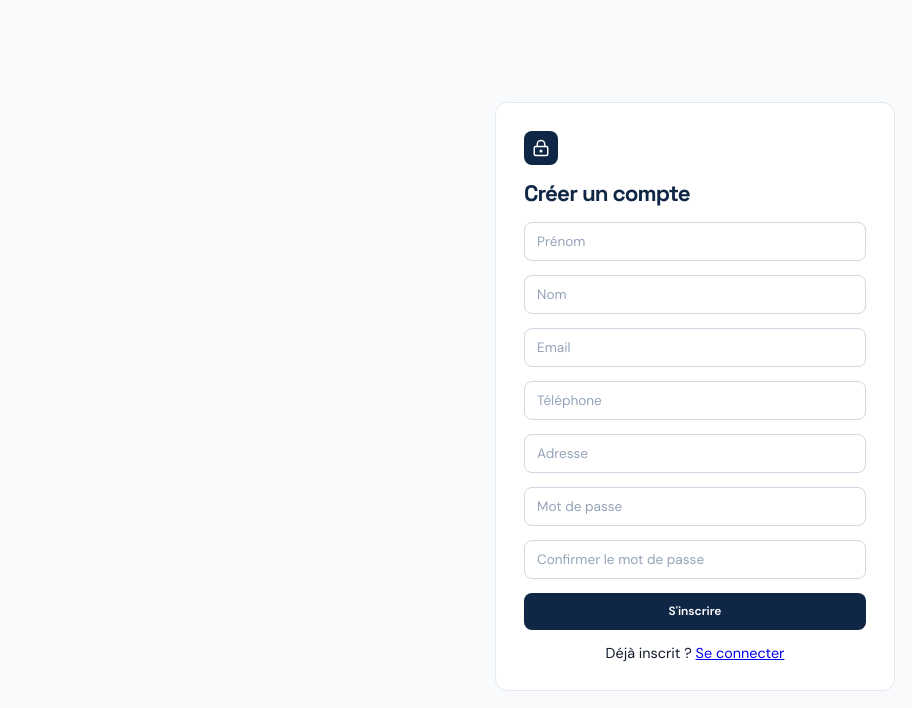
Test: calls register with form data, notifies and goes to /login
Type "Ali" into the field labelled "Prénom" at (695, 241), box x1=524 y1=222 x2=866 y2=260
Type "Ben" into the field labelled "Nom" at (695, 294), box x1=524 y1=274 x2=866 y2=314
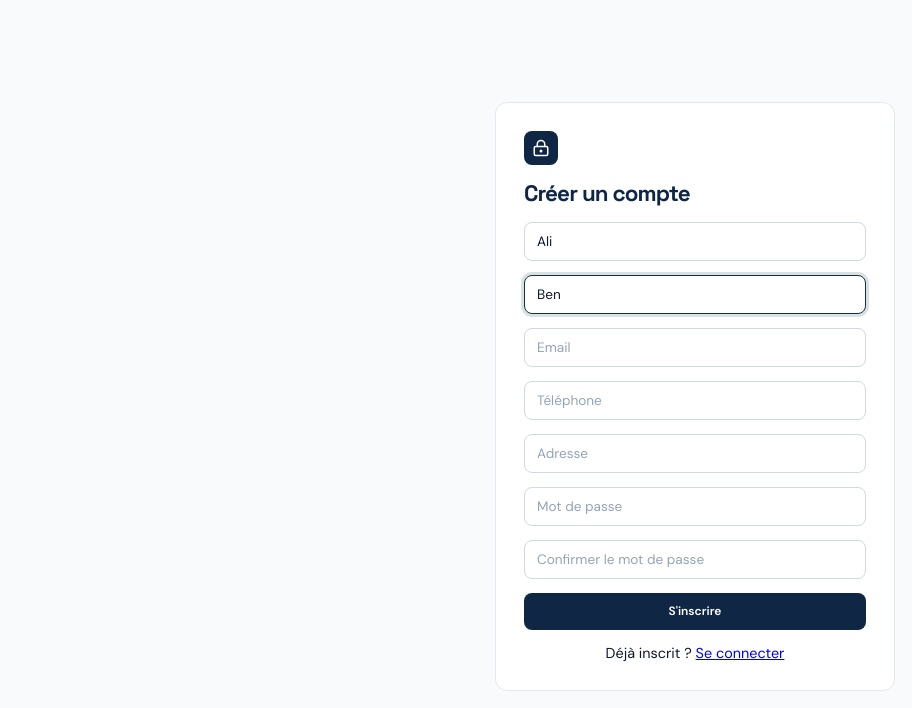
Type "ali@test.com" into the field labelled "Email" at (695, 347), box x1=524 y1=328 x2=866 y2=366
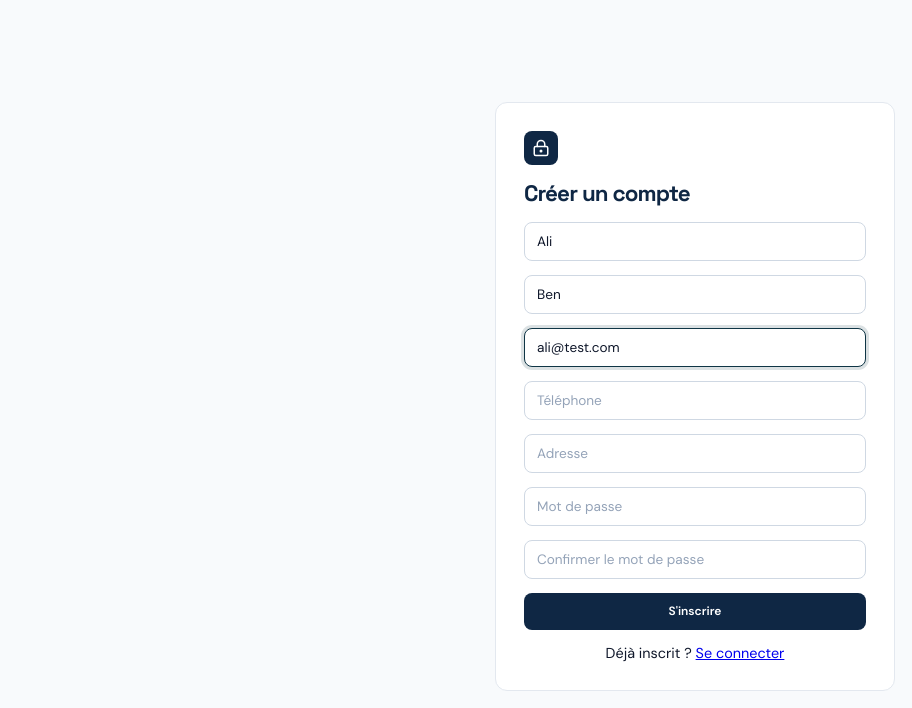
Type "Tunis" into the field labelled "Adresse" at (695, 453), box x1=524 y1=434 x2=866 y2=472
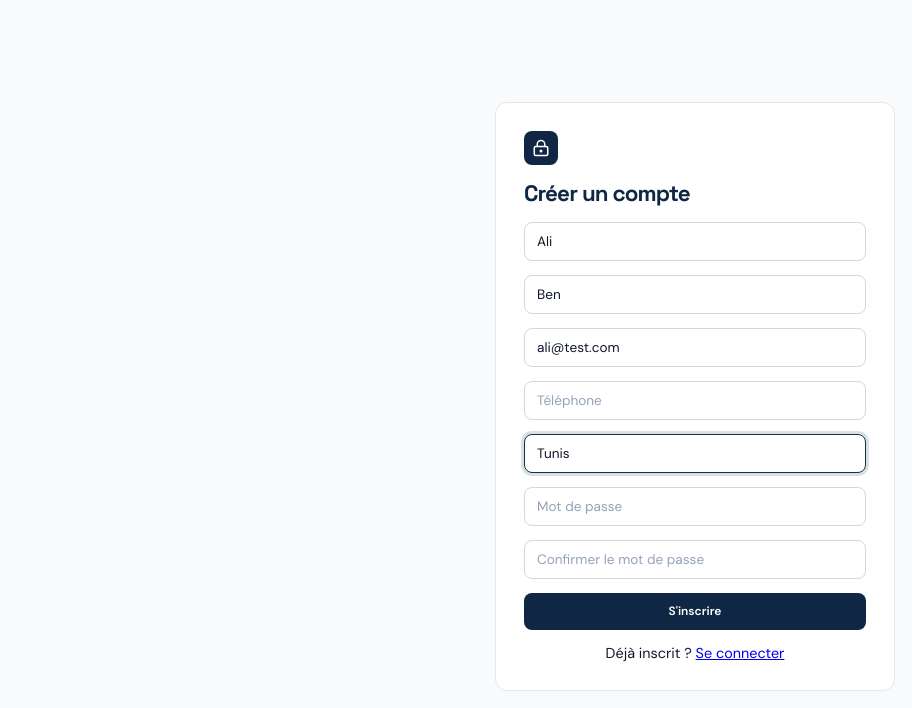
Type "Secret123!" into the password field labelled "Mot de passe" at (695, 506), box x1=524 y1=486 x2=866 y2=526
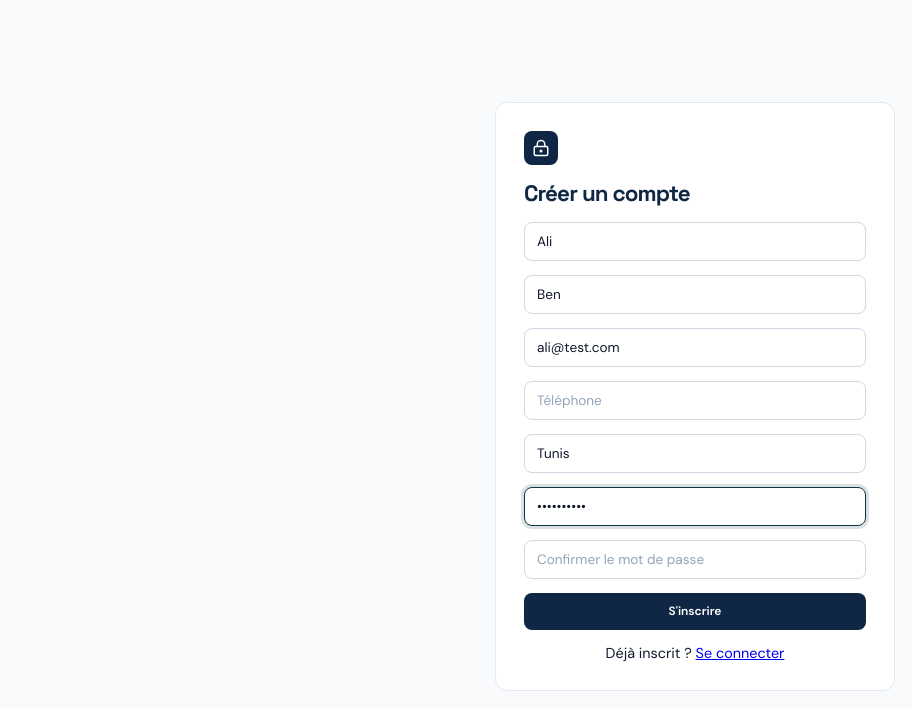
Type "Secret123!" into the password field labelled "Confirmer le mot de passe" at (695, 559), box x1=524 y1=540 x2=866 y2=578
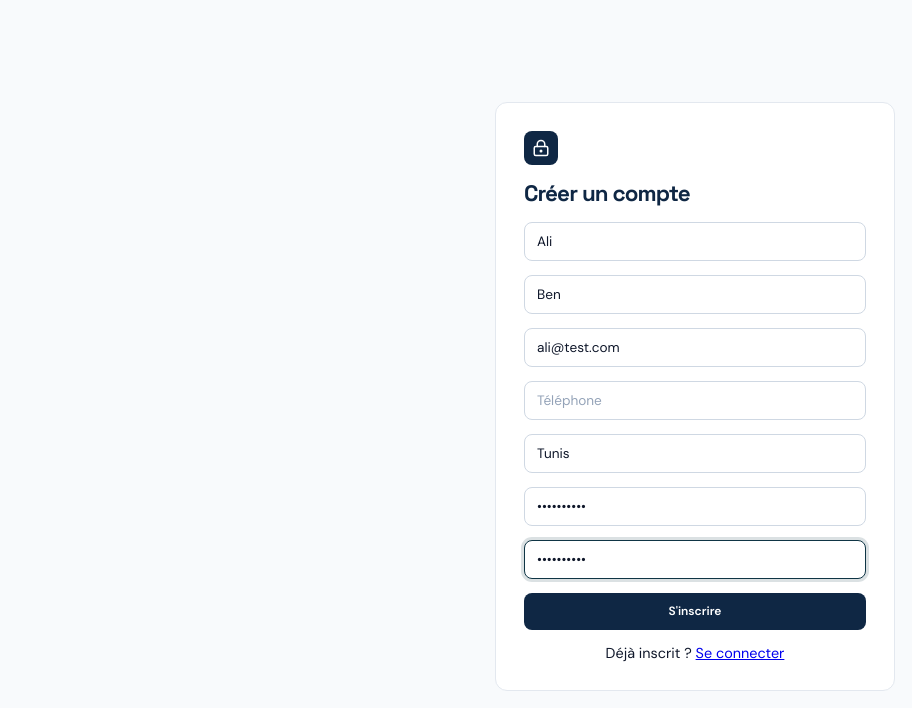
Click the button "S'inscrire" at (695, 611), box x1=524 y1=592 x2=866 y2=630
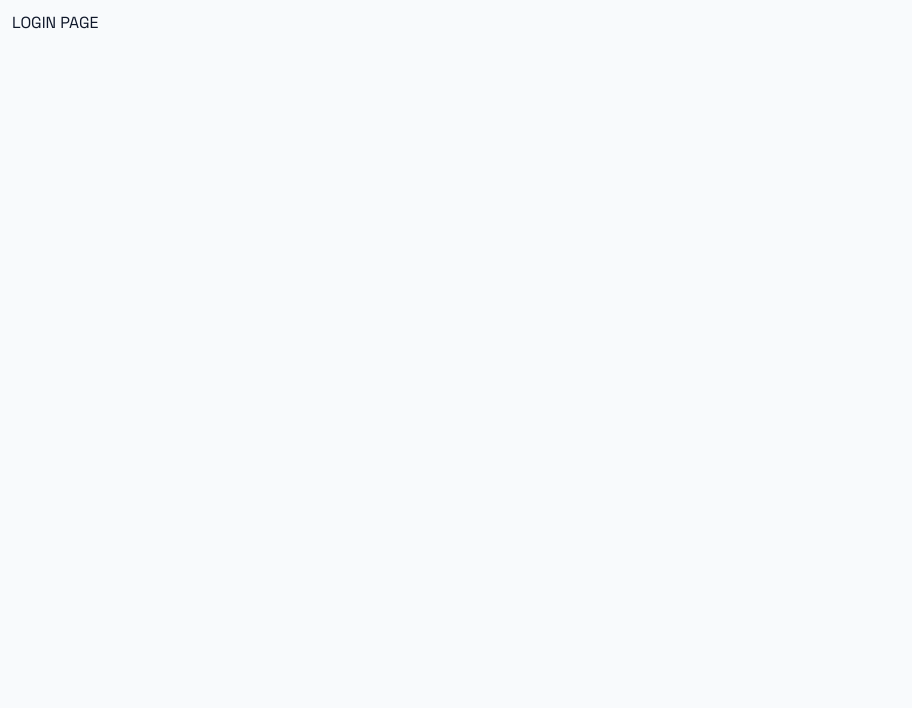
Result: the text "LOGIN PAGE" is shown at x1=12 y1=12 x2=98 y2=33
